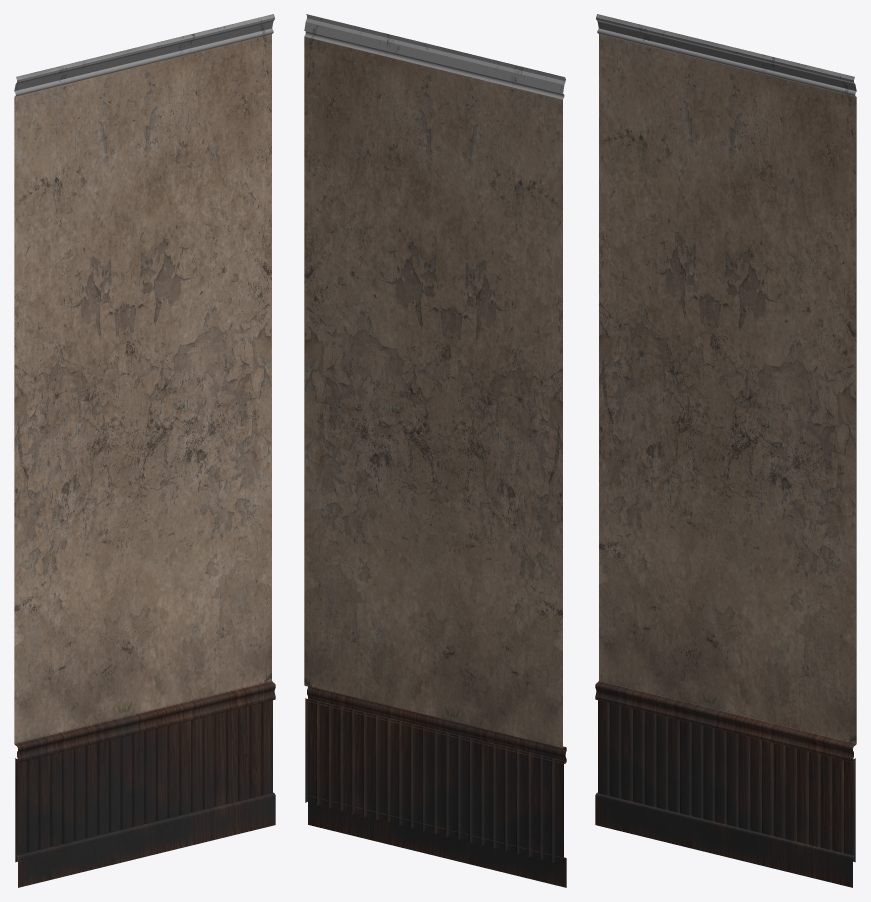
File: Mod_Wall_A_2x6_High.fbx
3 renders of one model, left to right at view 1: azimuth 30°, elevation 25°; view 2: azimuth 150°, elevation 25°; view 3: azimuth 330°, elevation 25°, orthographic.
Visible parts, largest first — view 1: Mod_Wall_A_2x6_High; view 2: Mod_Wall_A_2x6_High; view 3: Mod_Wall_A_2x6_High.
Part boxes in pixels (box(x1,y1,x2,y2)): Mod_Wall_A_2x6_High: box(14, 14, 275, 887); Mod_Wall_A_2x6_High: box(304, 14, 566, 887); Mod_Wall_A_2x6_High: box(595, 14, 856, 887).
Bounding box in the file's own units: 200 × 600 × 5.
1 material, 1 textured.
